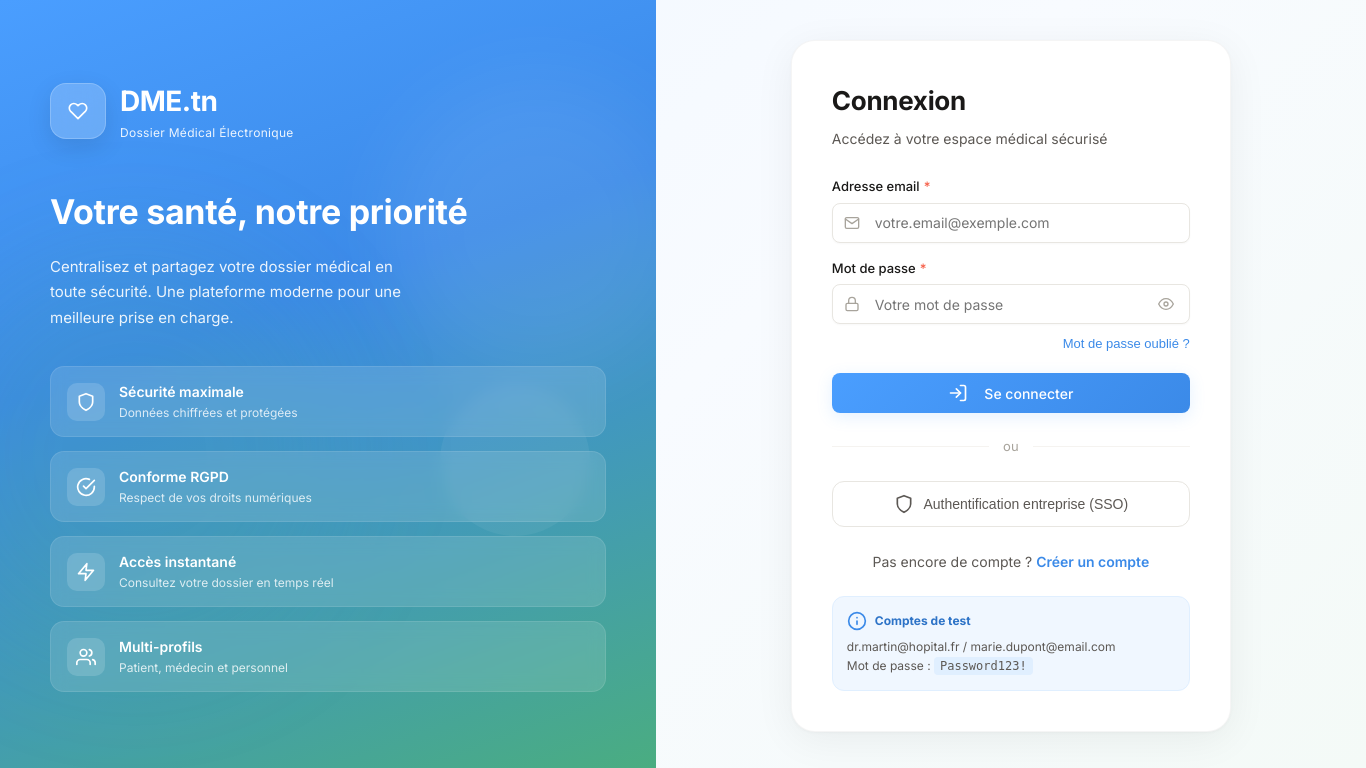
Test: DME - Authentication flows › redirects to dashboard after successful patient login
Type "patient@dme.fr" into the field with placeholder "votre.email@exemple.com" at (1011, 223), box top-left (832, 203), bottom-right (1190, 243)
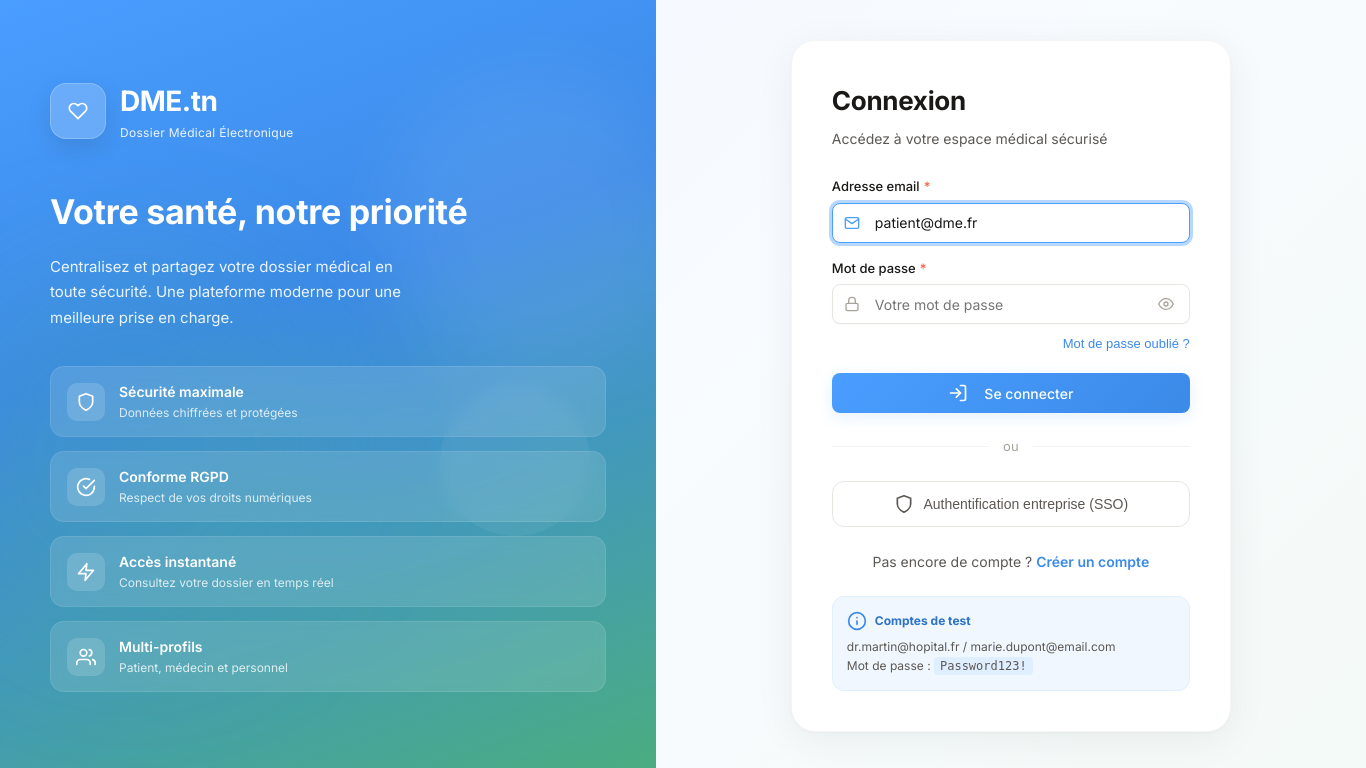
Type "Password123!" into the password field with placeholder "Votre mot de passe" at (1011, 304), box top-left (832, 284), bottom-right (1190, 324)
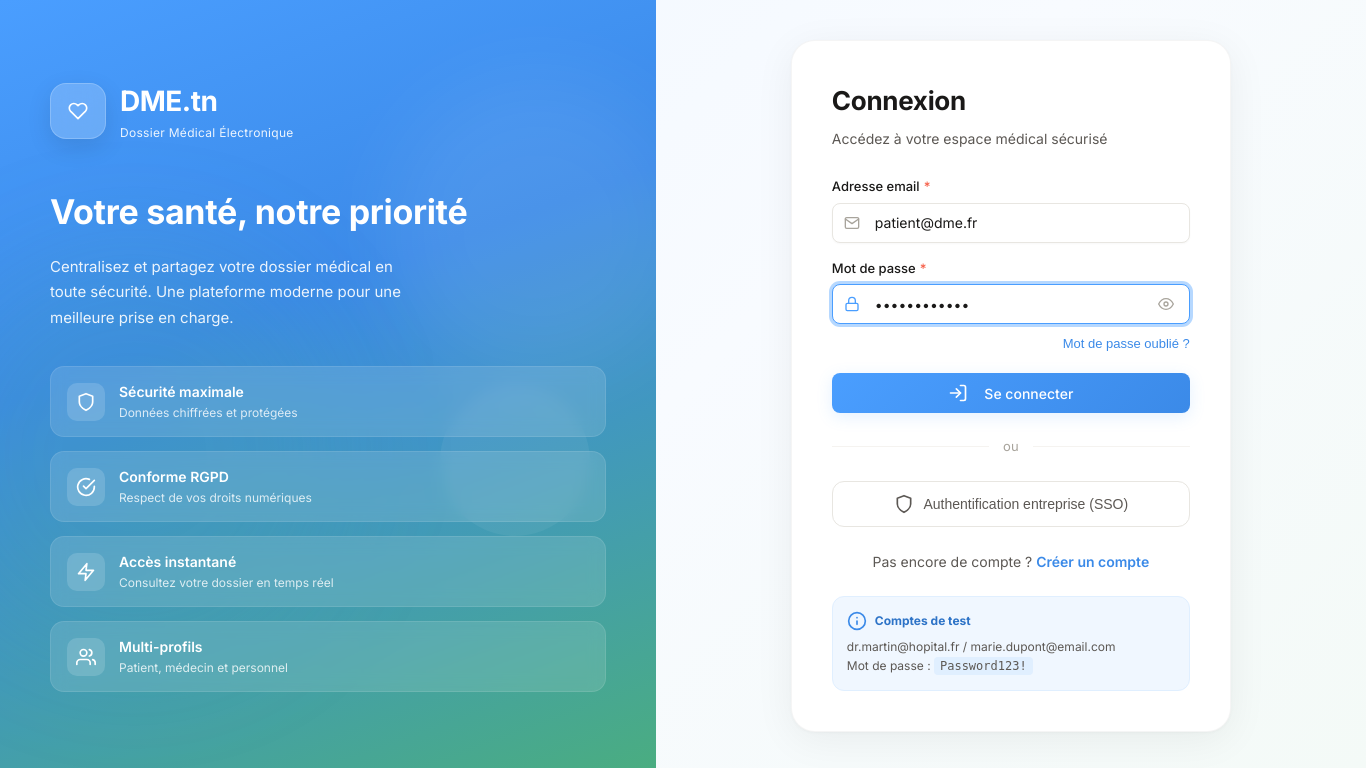
Click the submit button at (1011, 393), box top-left (832, 373), bottom-right (1190, 413)
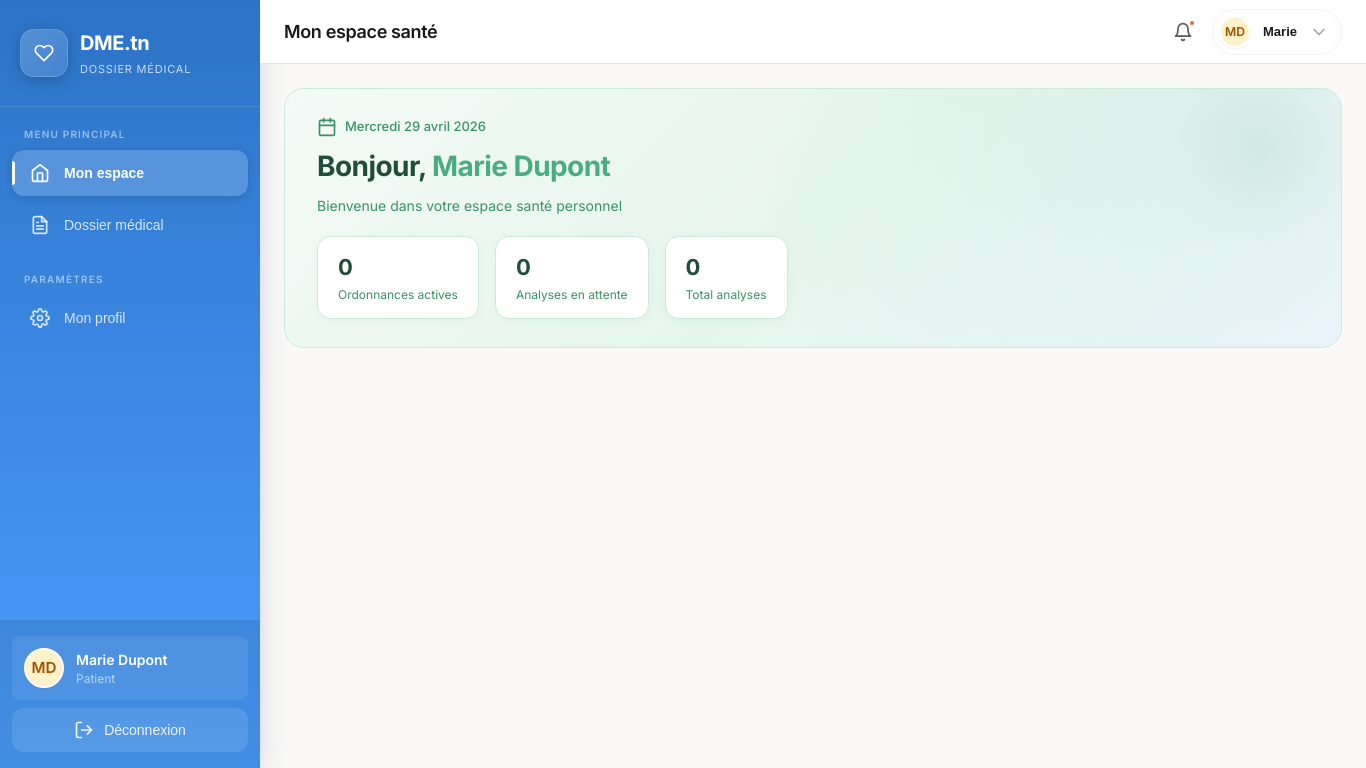
Now the heading "Mon espace santé" is shown, box top-left (284, 18), bottom-right (437, 45)
